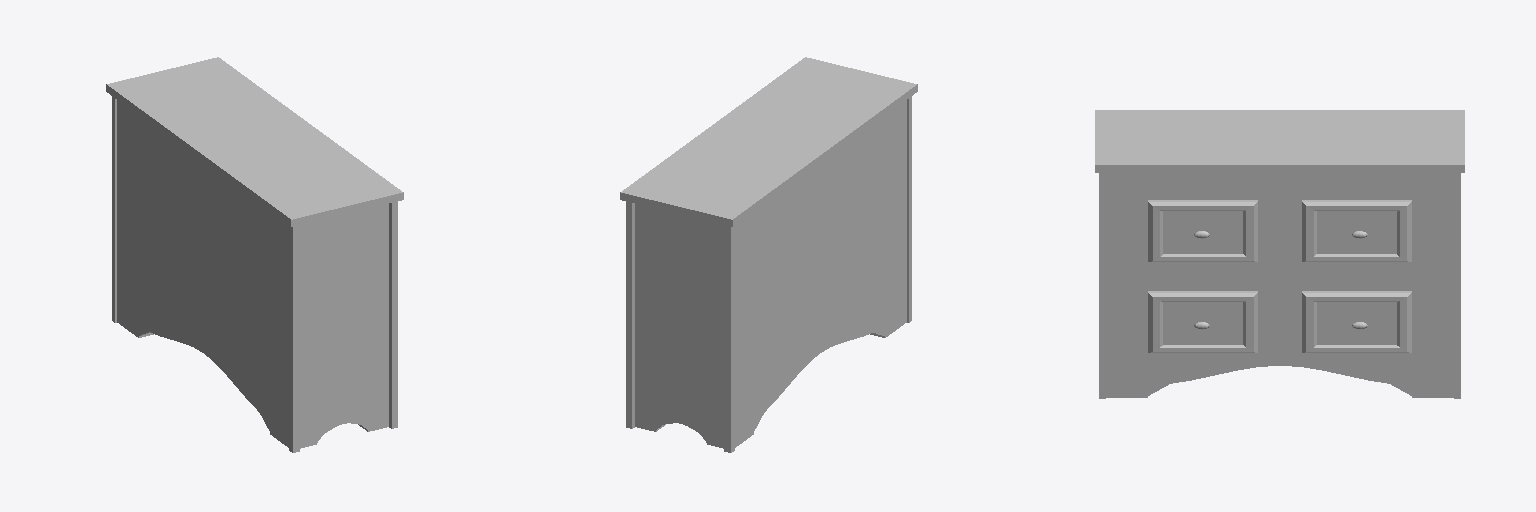
The model's file is Dresser.obj.
3 renders of one model, left to right at view 1: azimuth 30°, elevation 25°; view 2: azimuth 150°, elevation 25°; view 3: azimuth 270°, elevation 25°, orthographic.
Parts seen in each view (by area): view 1: Cube.012, Cube.011; view 2: Cube.012, Cube.011; view 3: Cube.012, Cube.011.
Part boxes in pixels (bbox=[...]): Cube.012: bbox=[117, 100, 388, 448]; Cube.011: bbox=[106, 57, 403, 452]; Cube.012: bbox=[635, 100, 906, 448]; Cube.011: bbox=[620, 57, 917, 452]; Cube.012: bbox=[1106, 173, 1453, 397]; Cube.011: bbox=[1095, 110, 1464, 398].
Bounding box in the file's own units: 1.37 × 2.71 × 3.85.